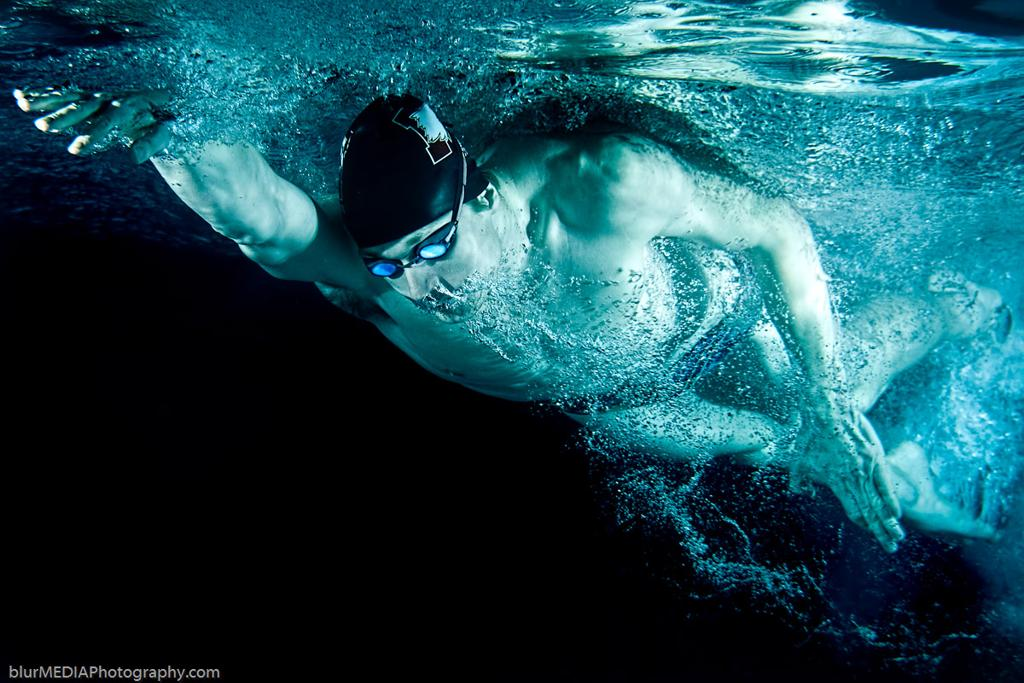face: (374, 220, 486, 322)
